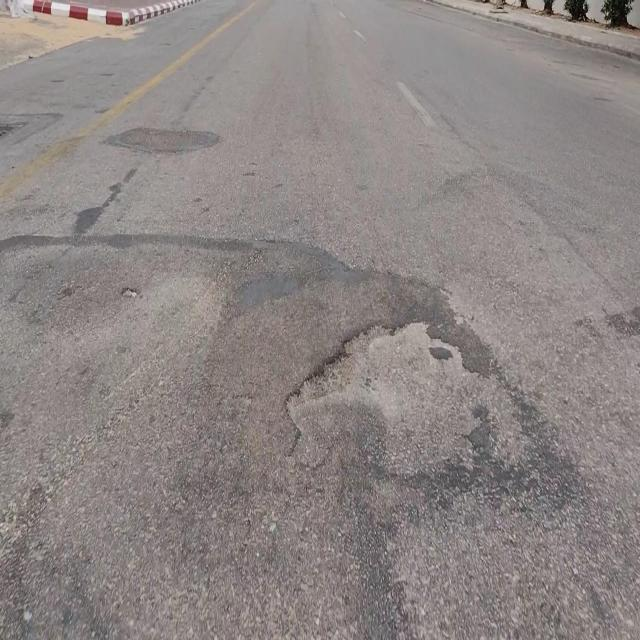Pothole: (283, 318, 530, 481)
